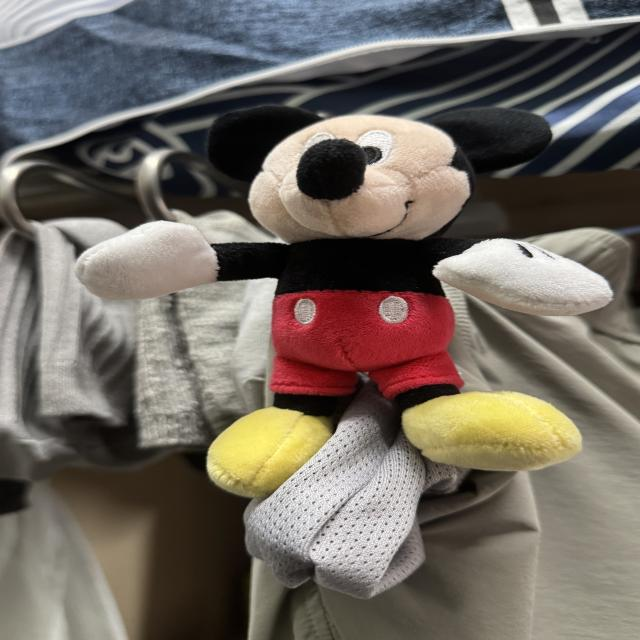mickey: (78, 106, 611, 496)
